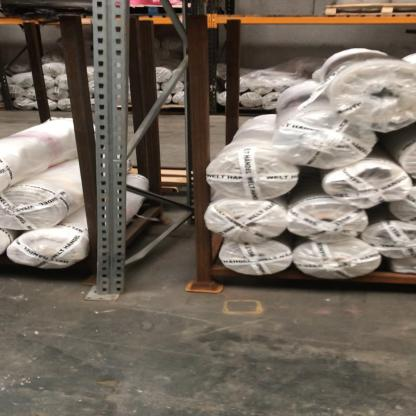vertical_damage: (81, 271, 135, 306)
